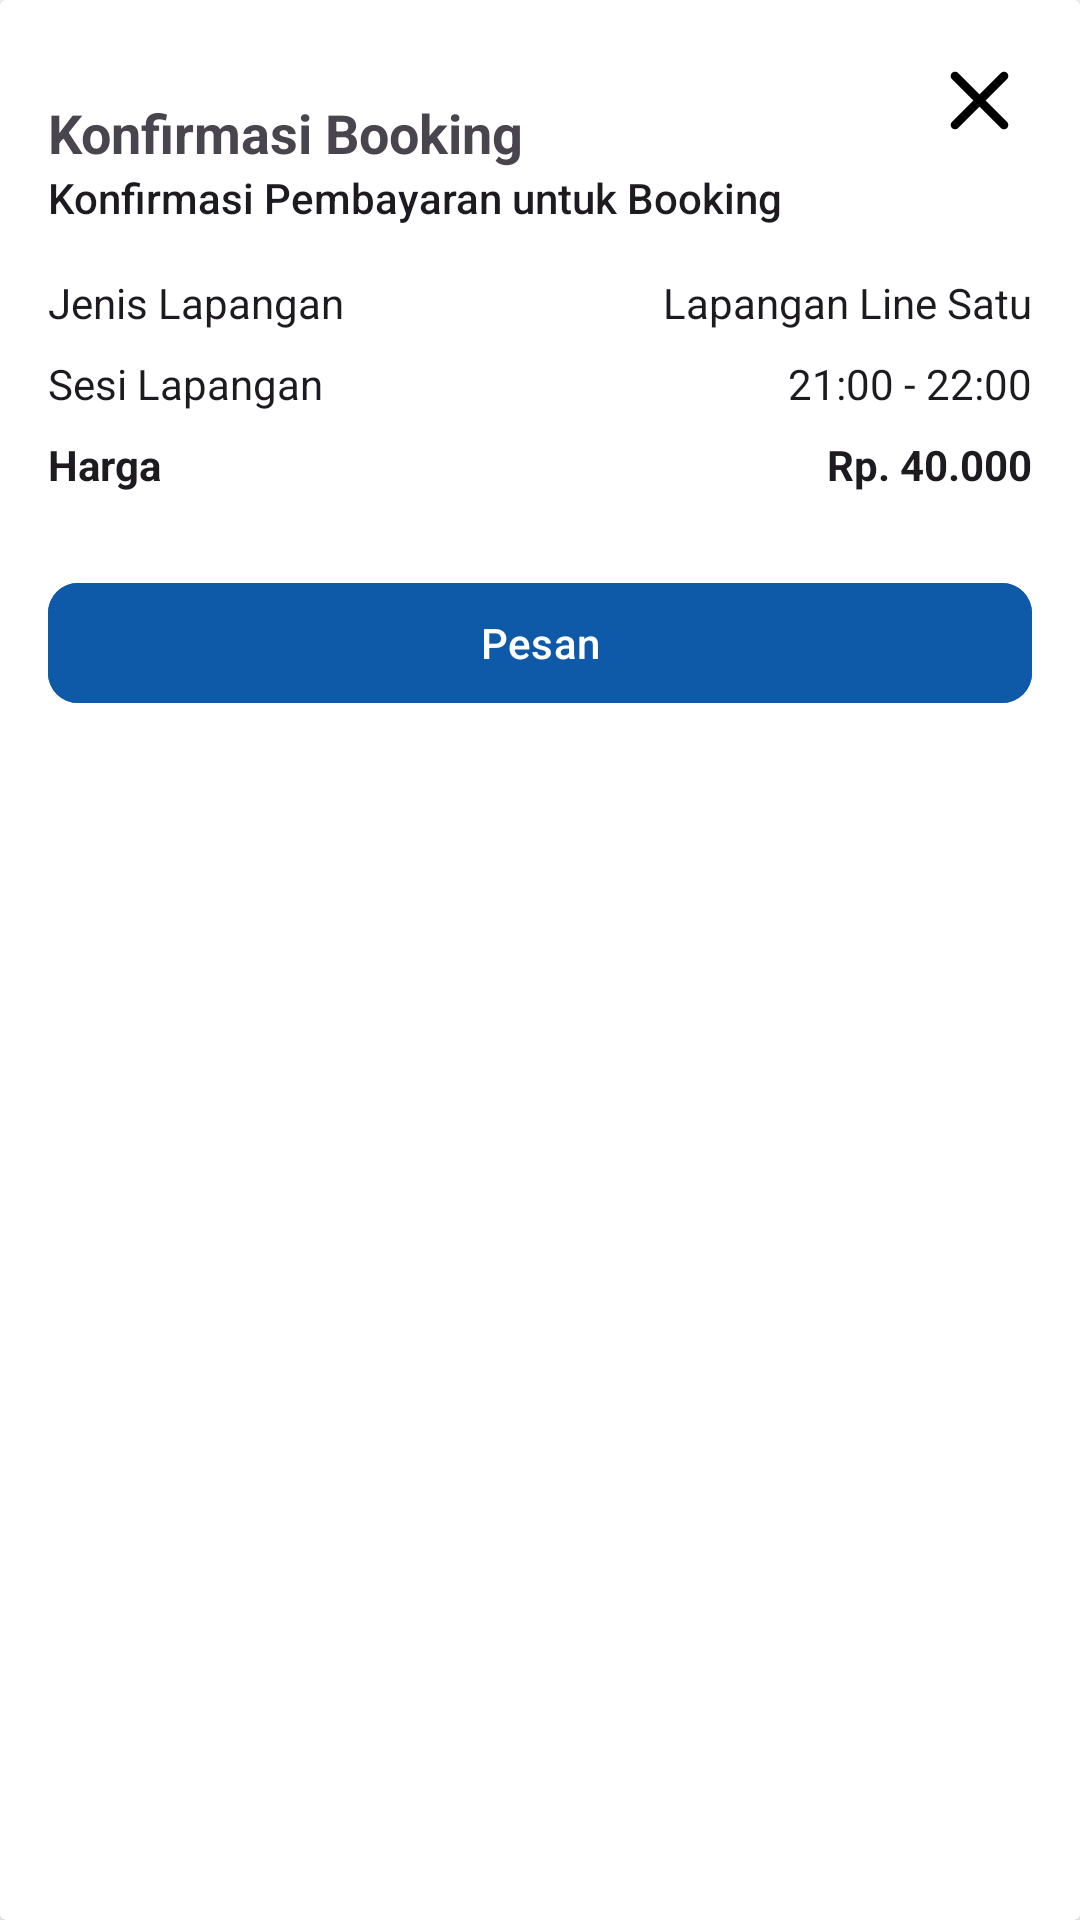

Where icons sit on this 1080w x 1920h app screen, as (x1, y1, x2, y2):
Close: (950, 71, 1009, 130)
